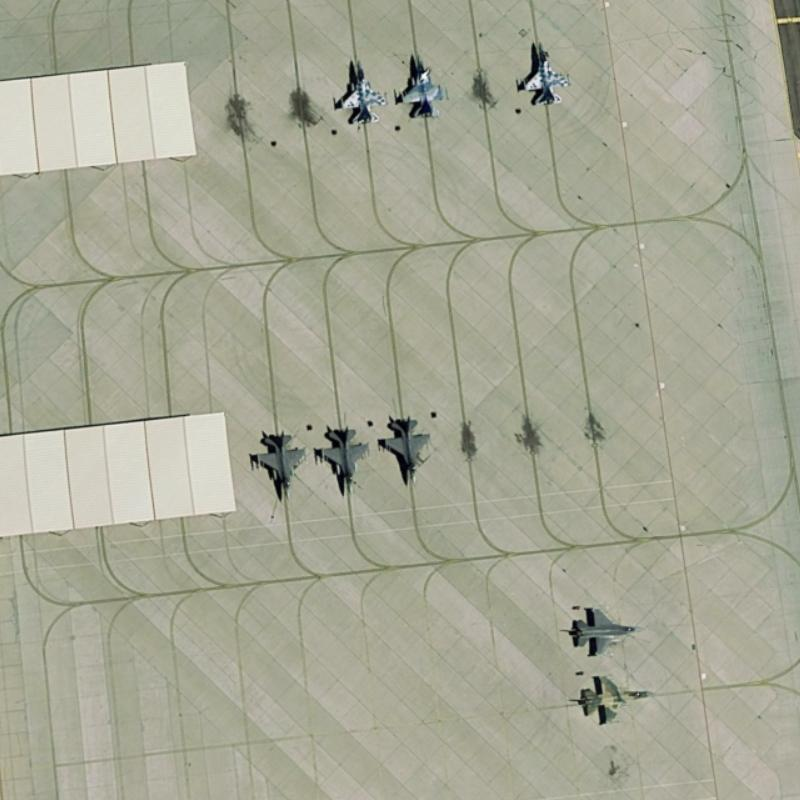A5: (574, 668, 663, 731), (375, 403, 438, 489), (247, 421, 309, 506), (387, 44, 450, 126), (310, 420, 375, 497), (564, 600, 646, 660), (514, 37, 576, 107), (329, 53, 387, 127)
